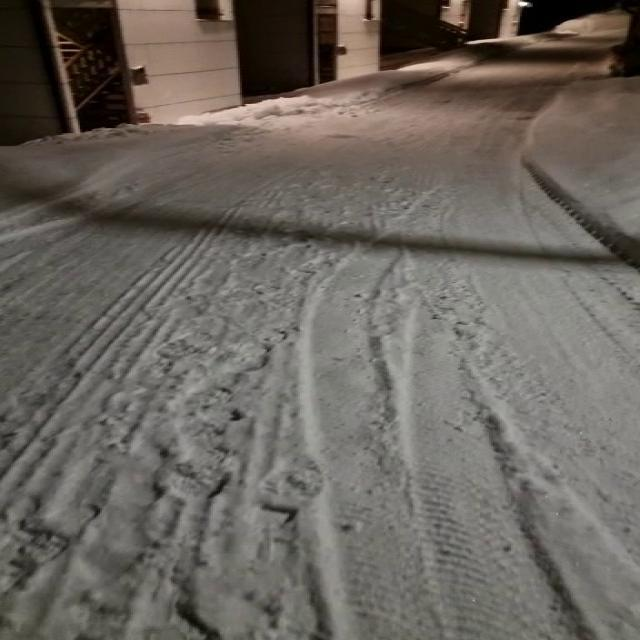path: (0, 31, 638, 640)
